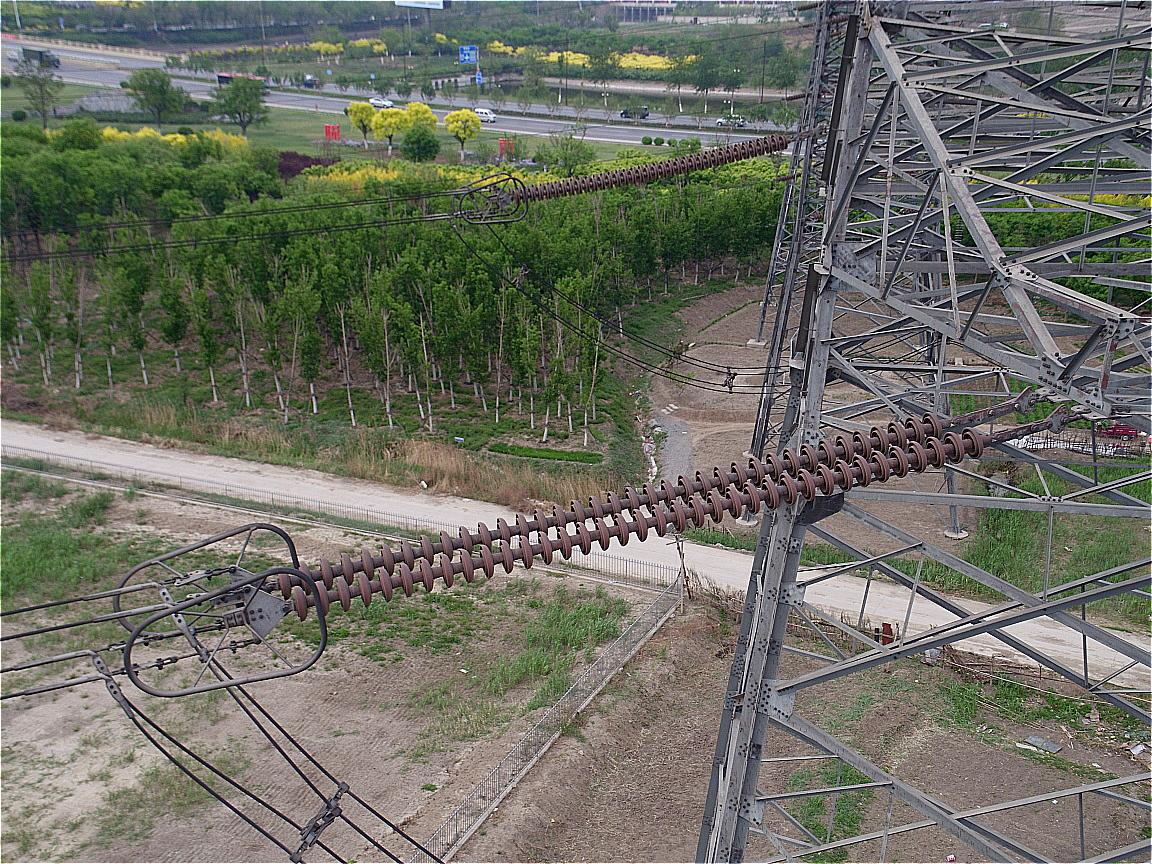insultor1: (278, 411, 981, 620)
insultor2: (510, 133, 788, 204)
